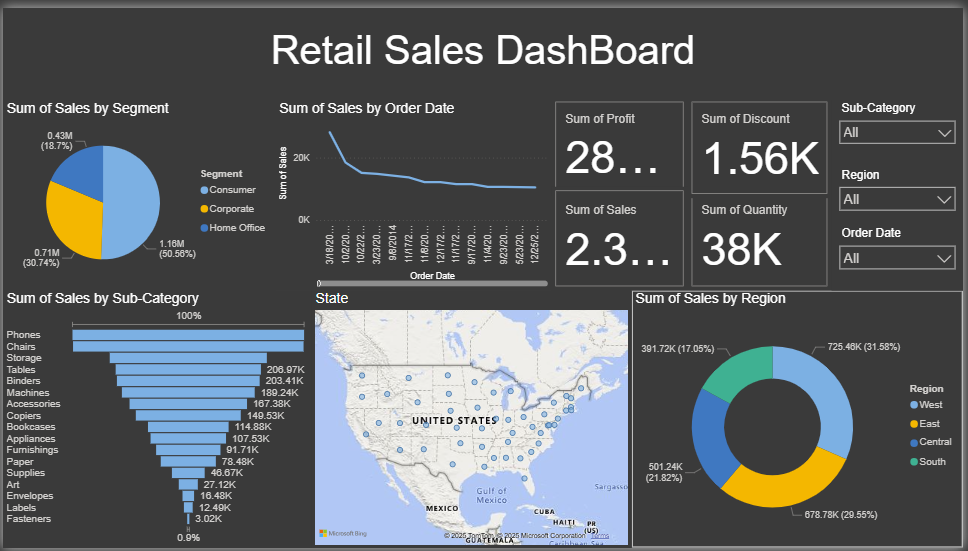

What the dashboard file says about the page in this screenshot:
{"tool":"powerbi","page":{"name":"Page 1","canvas":[1280,720],"ordinal":0},"visuals":[{"type":"donutChart","fields":{"Category":["Sample - Superstore.Region"],"Y":["Sum(Sample - Superstore.Sales)"]},"box":[838.3,376.7,441.7,343.3],"z":0},{"type":"funnel","fields":{"Category":["Sample - Superstore.Sub-Category"],"Y":["Sum(Sample - Superstore.Sales)"]},"box":[0,376.7,411.7,343.3],"z":1},{"type":"pieChart","fields":{"Category":["Sample - Superstore.Segment"],"Y":["Sum(Sample - Superstore.Sales)"]},"box":[0,123.3,363.3,251.7],"z":3},{"type":"lineChart","fields":{"Category":["Sample - Superstore.Order Date"],"Y":["Sum(Sample - Superstore.Sales)"]},"box":[363.3,123.3,368.3,253.3],"z":4},{"type":"cardVisual","fields":{"Data":["Sum(Sample - Superstore.Profit)"]},"box":[731.7,120,181.7,130],"z":5},{"type":"cardVisual","fields":{"Data":["Sum(Sample - Superstore.Quantity)"]},"box":[913.3,238.3,191.7,138.3],"z":6},{"type":"cardVisual","fields":{"Data":["Sum(Sample - Superstore.Sales)"]},"box":[731.7,238.3,181.7,138.3],"z":7},{"type":"cardVisual","fields":{"Data":["Sum(Sample - Superstore.Discount)"]},"box":[913.3,120,191.7,133.3],"z":8},{"type":"slicer","fields":{"Values":["Sample - Superstore.Order Date"]},"box":[1105,286.7,175,90],"z":9},{"type":"slicer","fields":{"Values":["Sample - Superstore.Region"]},"box":[1105,208.3,175,78.3],"z":10},{"type":"slicer","fields":{"Values":["Sample - Superstore.Sub-Category"]},"box":[1105,120,175,90],"z":11},{"type":"textbox","box":[0,21.7,1280,101.7],"z":12},{"type":"scatterChart","fields":{"Category":["Sample - Superstore.Region"],"Series":["Sample - Superstore.Quantity"],"X":["Sum(Sample - Superstore.Sales)"],"Y":["Sum(Sample - Superstore.Profit)"]},"box":[411.7,376.7,411.7,343.3],"z":13}]}

Visuals, with their boxes in screenshot pixels (x1, y1, x2, y2), scaled from the page's 1280x720 canvas onto the 968x551 screenshot:
donutChart - Sample - Superstore.Region x Sum(Sample - Superstore.Sales): {"left": 634, "top": 288, "right": 967, "bottom": 550}
funnel - Sample - Superstore.Sub-Category x Sum(Sample - Superstore.Sales): {"left": 0, "top": 288, "right": 311, "bottom": 550}
pieChart - Sample - Superstore.Segment x Sum(Sample - Superstore.Sales): {"left": 0, "top": 94, "right": 275, "bottom": 287}
lineChart - Sample - Superstore.Order Date x Sum(Sample - Superstore.Sales): {"left": 275, "top": 94, "right": 553, "bottom": 288}
cardVisual - Sum(Sample - Superstore.Profit): {"left": 553, "top": 92, "right": 691, "bottom": 191}
cardVisual - Sum(Sample - Superstore.Quantity): {"left": 691, "top": 182, "right": 836, "bottom": 288}
cardVisual - Sum(Sample - Superstore.Sales): {"left": 553, "top": 182, "right": 691, "bottom": 288}
cardVisual - Sum(Sample - Superstore.Discount): {"left": 691, "top": 92, "right": 836, "bottom": 194}
slicer - Sample - Superstore.Order Date: {"left": 836, "top": 219, "right": 967, "bottom": 288}
slicer - Sample - Superstore.Region: {"left": 836, "top": 159, "right": 967, "bottom": 219}
slicer - Sample - Superstore.Sub-Category: {"left": 836, "top": 92, "right": 967, "bottom": 161}
textbox: {"left": 0, "top": 17, "right": 967, "bottom": 94}
scatterChart - Sample - Superstore.Region x Sample - Superstore.Quantity: {"left": 311, "top": 288, "right": 623, "bottom": 550}
